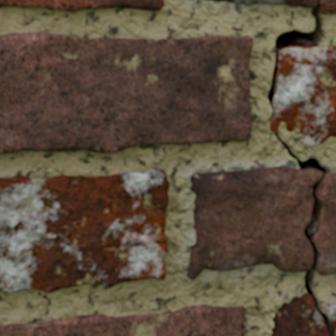brick: (0, 33, 252, 152), (0, 168, 168, 292), (0, 305, 243, 335), (272, 46, 335, 146), (0, 0, 163, 10)
broken_brick: (186, 165, 320, 280), (271, 292, 328, 335), (315, 171, 335, 275), (204, 0, 335, 15), (318, 301, 335, 327)
crack: (267, 1, 335, 335)
